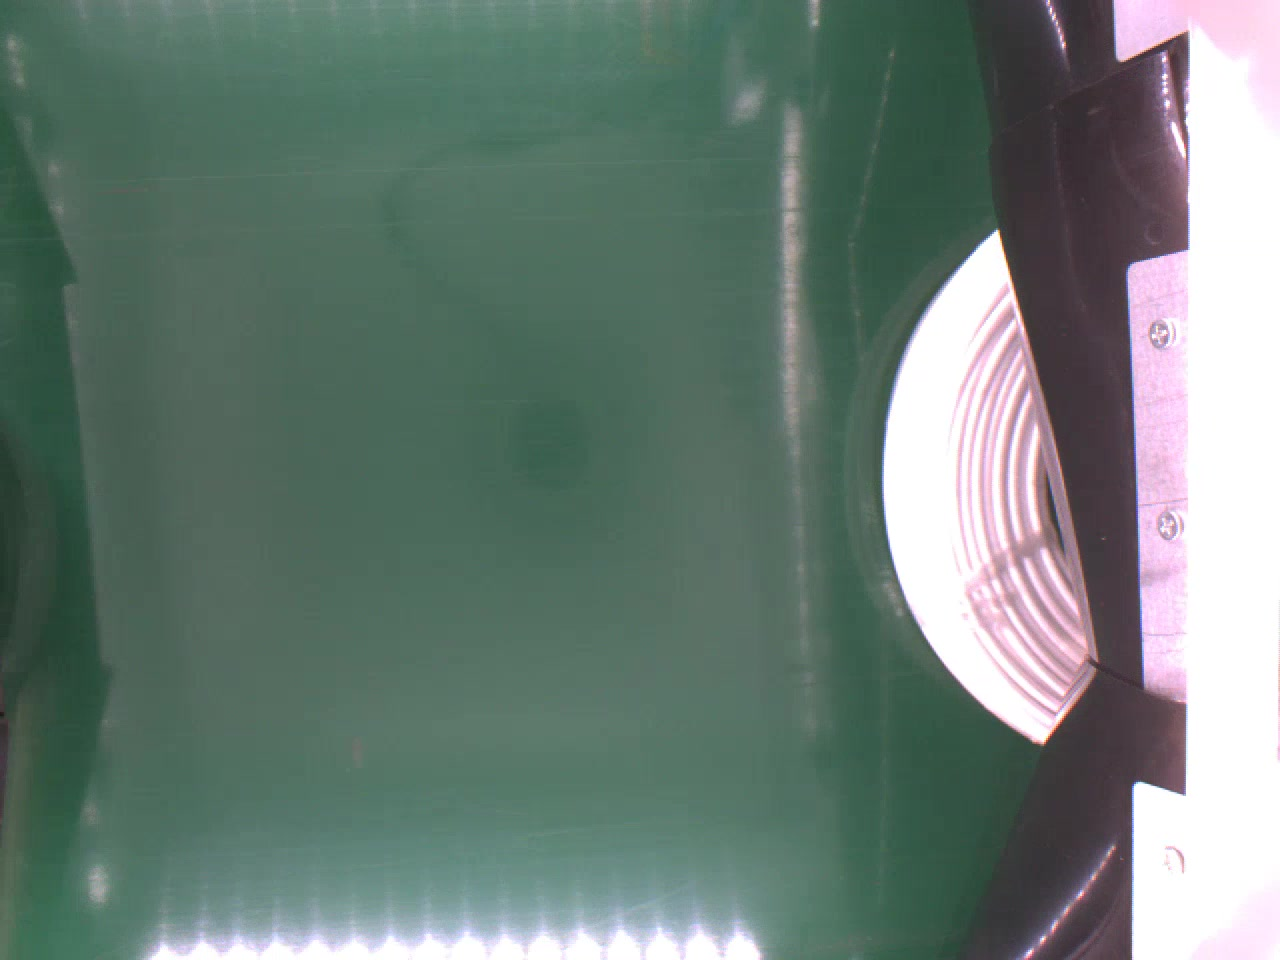white: (884, 228, 1091, 738)
